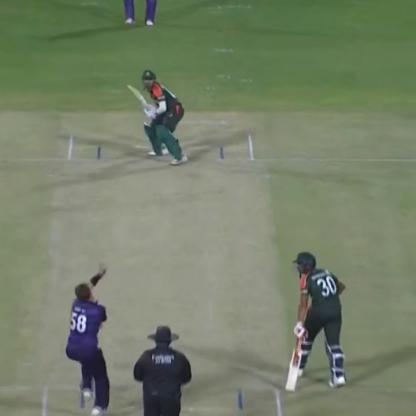bat: (280, 326, 312, 398), (121, 79, 156, 118)
pitch: (38, 127, 291, 415)
